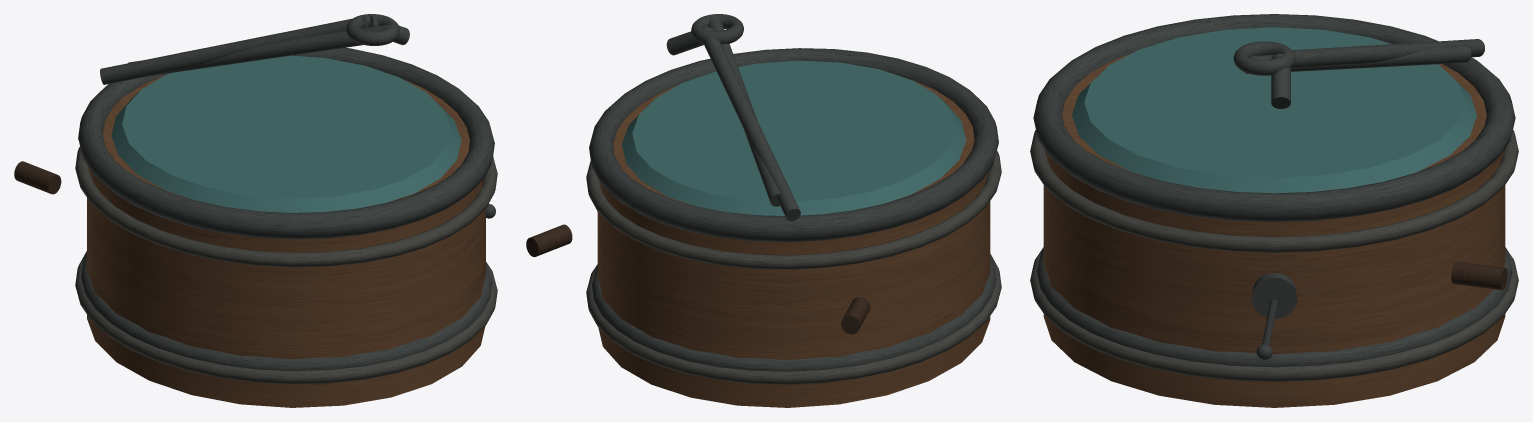
Rendered from quench_tub.glb.
The picture shows the model from 3 angles, left to right: view 1: azimuth 30°, elevation 25°; view 2: azimuth 150°, elevation 25°; view 3: azimuth 270°, elevation 25°; orthographic projection. The views are drawn at different scales.
Visible parts, largest first — view 1: quench_tub; view 2: quench_tub; view 3: quench_tub.
Boxes of the visible parts, x1,y1,x2,y2 form: quench_tub: (14, 14, 497, 407); quench_tub: (526, 14, 1001, 407); quench_tub: (1030, 14, 1518, 407).
Bounding box in the file's own units: 1 × 0.7 × 1.
1 material, 1 textured.
